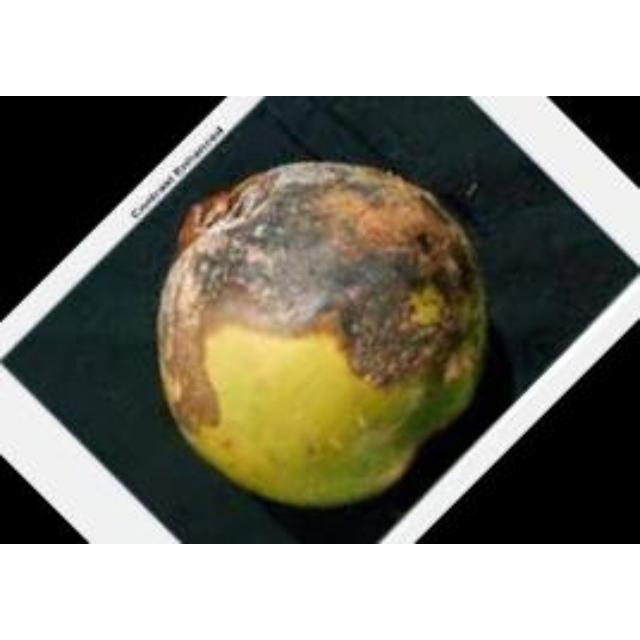damaged: (160, 163, 482, 504)
